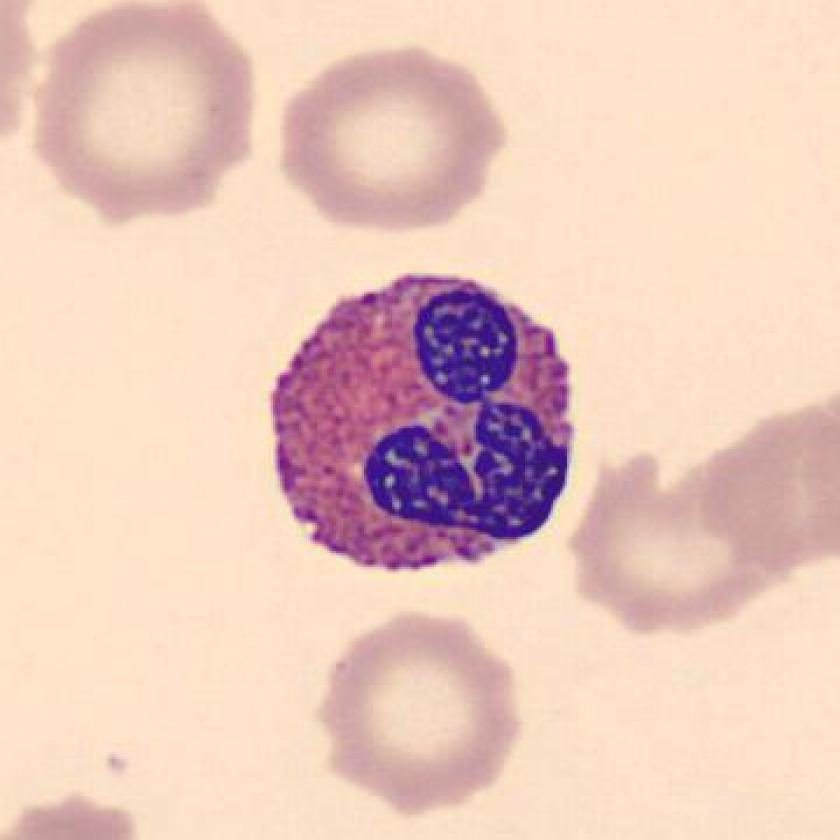eosinophil: (258, 256, 582, 594)
